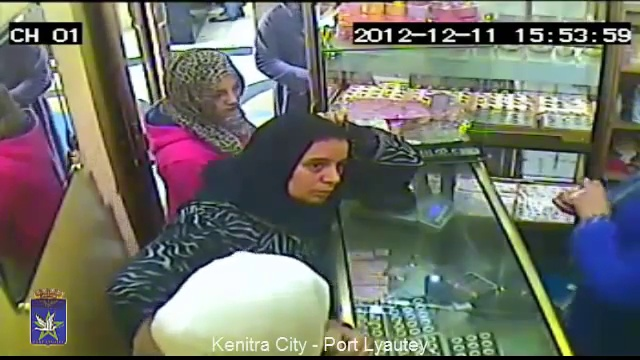face: (288, 135, 343, 199), (206, 76, 239, 120)
